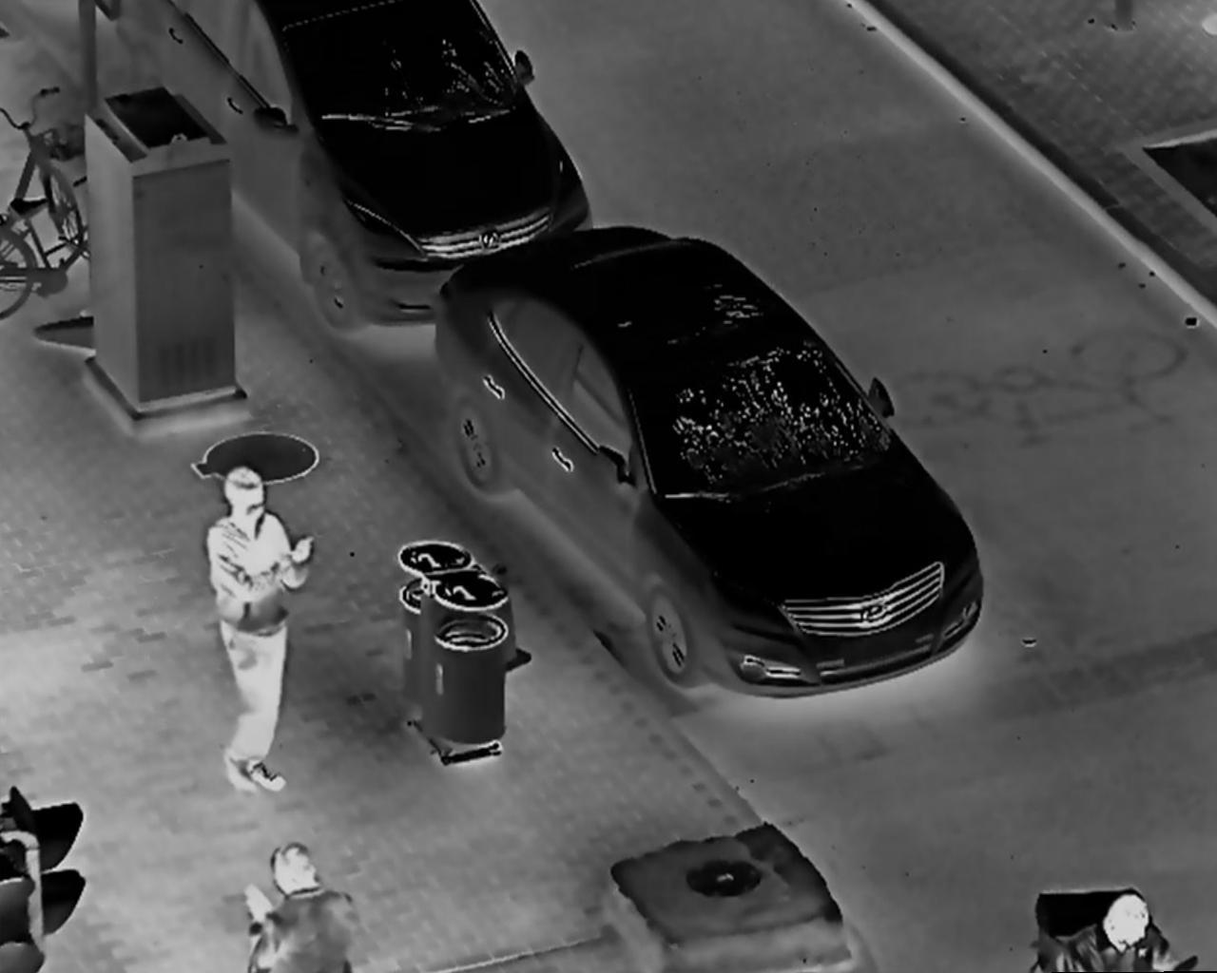person: (201, 462, 319, 799), (230, 844, 363, 973), (1046, 895, 1175, 973)
